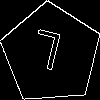L: (26, 29, 64, 80)
